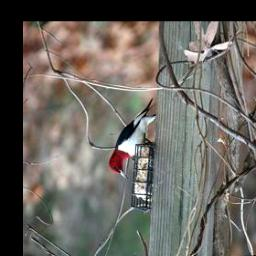Woodpecker: (105, 96, 162, 184)
